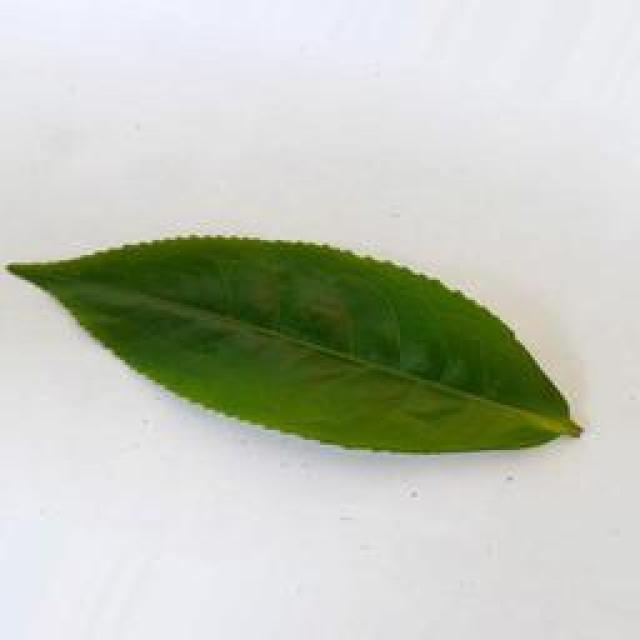Healthy: (2, 216, 604, 478)
